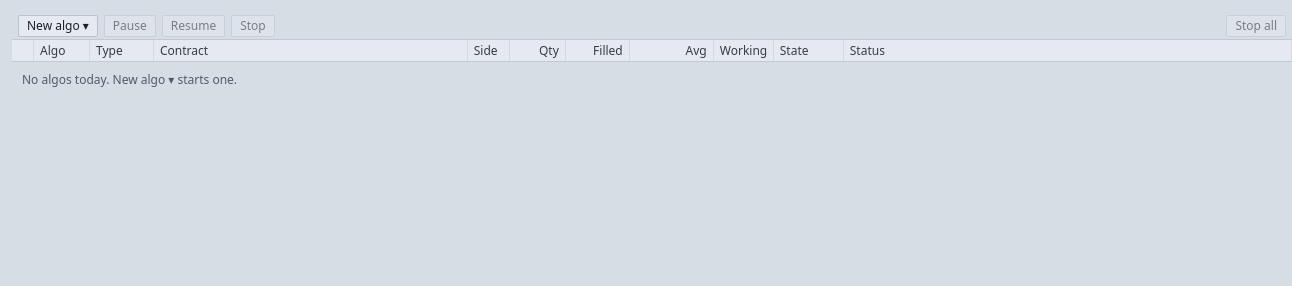
Test: Algo manager › the New form is drawn from the specs and starts an algo
Click the button "New algo ▾" at point(58, 26), box [18,14,98,36]
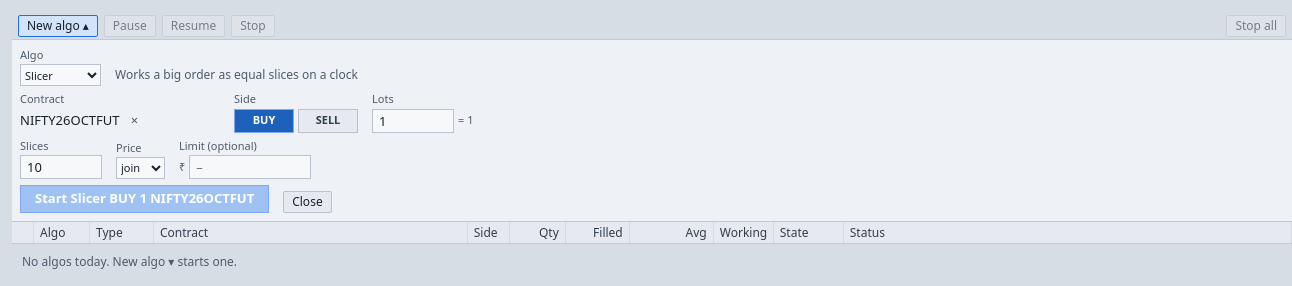
Expected: the text "Works a big order as equal slices on a clock" is shown, [115,66,358,83]
Expected: the field named "Slices" holds "10", [20,155,102,179]
Replace the text in the field named "Lots" with "4" at point(413, 121), box [372,109,454,133]
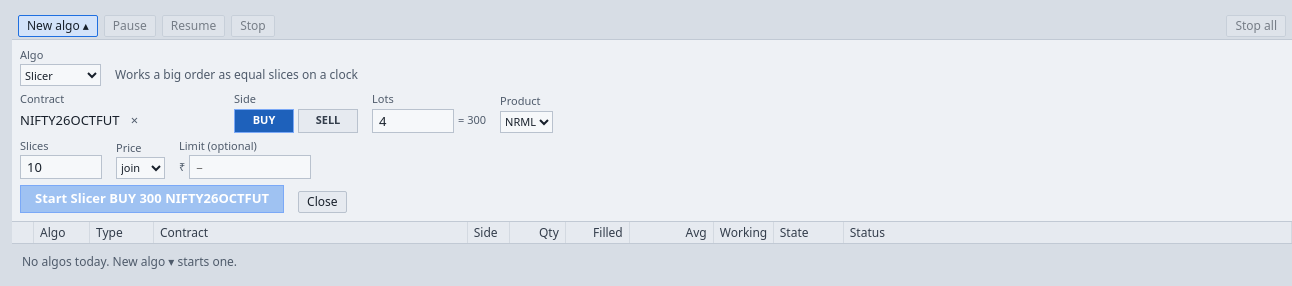
Select "cross" in the dropdown named "Price" at point(140, 168), box [116,157,165,179]
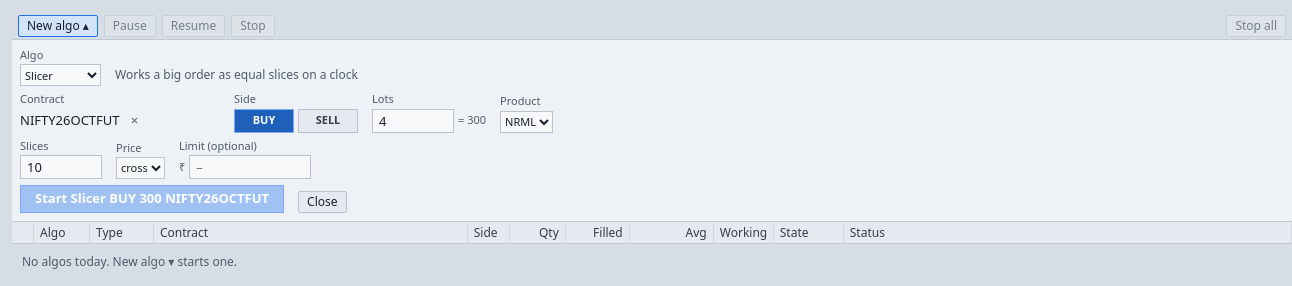
Replace the text in the field named "Slices" with "4" at point(61, 167), box [20,155,102,179]
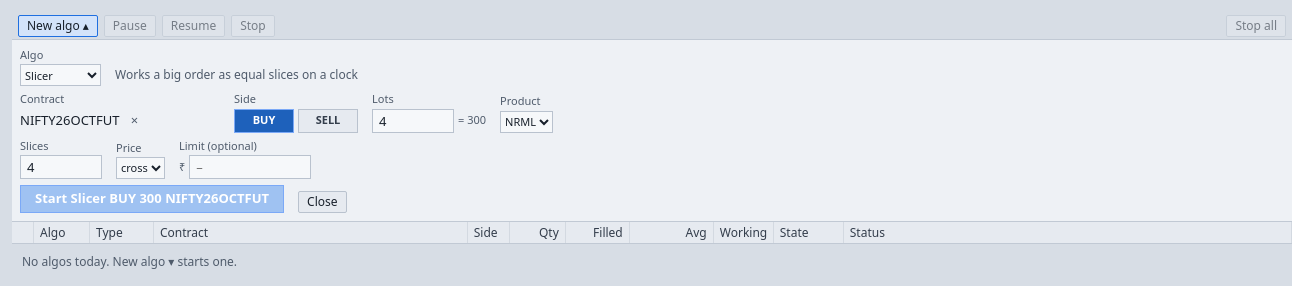
Expected: the dropdown named "Product" is shown, [500,111,553,133]
Click the button "Start Slicer BUY 300 NIFTY26OCTFUT" at point(152, 199), box [20,185,284,213]
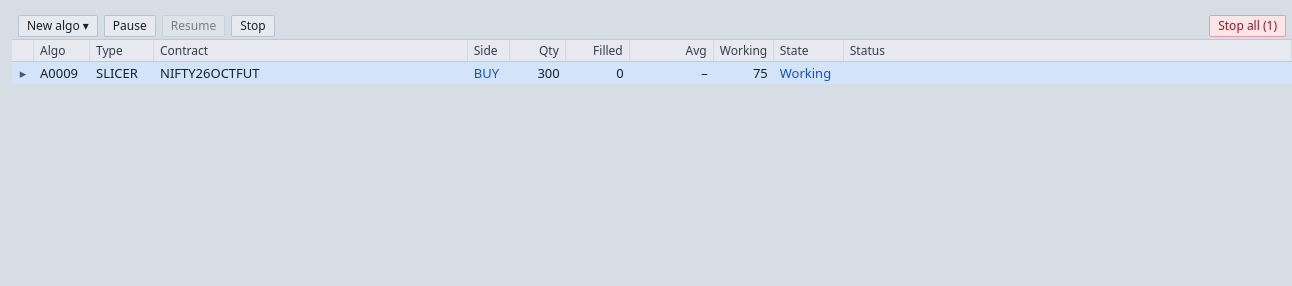
Expected: the form is gone
